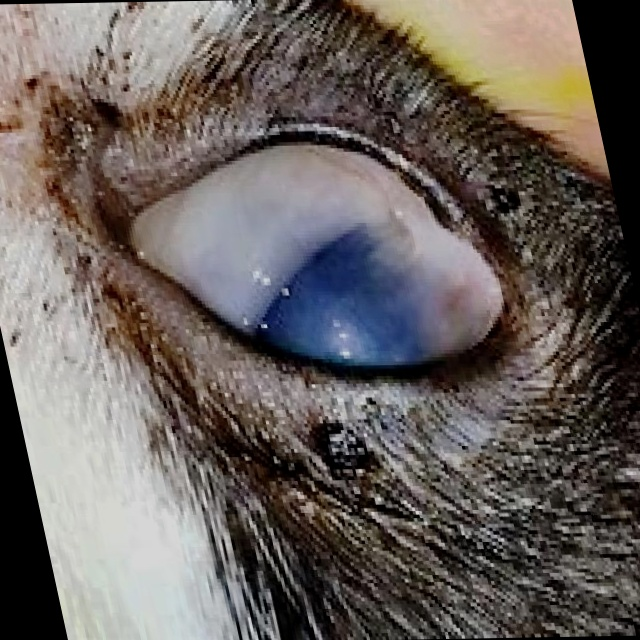eye_infection: (96, 129, 534, 390)
